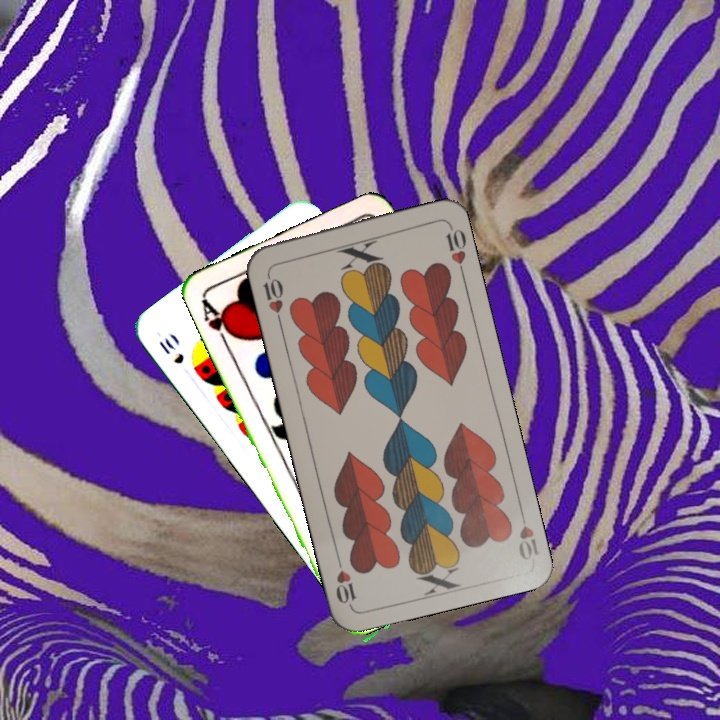H10: (514, 504, 542, 563), (259, 267, 286, 326)
HA: (197, 295, 239, 350)
S10: (154, 330, 187, 367)
